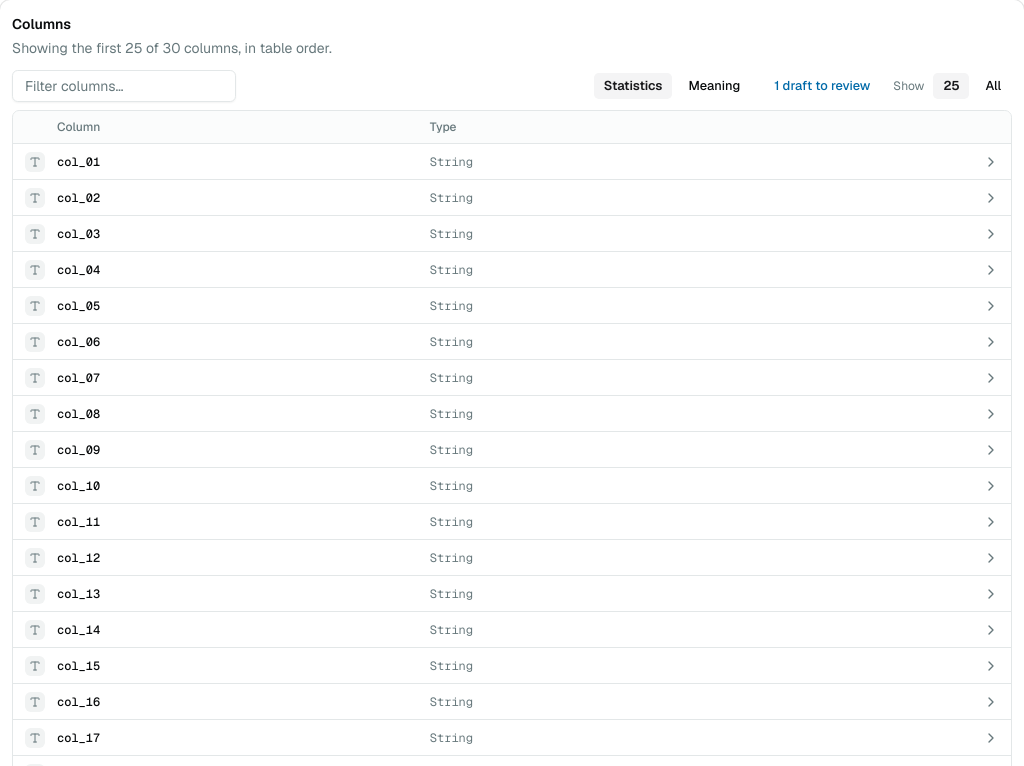
Test case: Drafts only › lists a draft beyond the first page and says it is the one draft shown
Click the button "Meaning": click(714, 86) [677, 72, 751, 100]
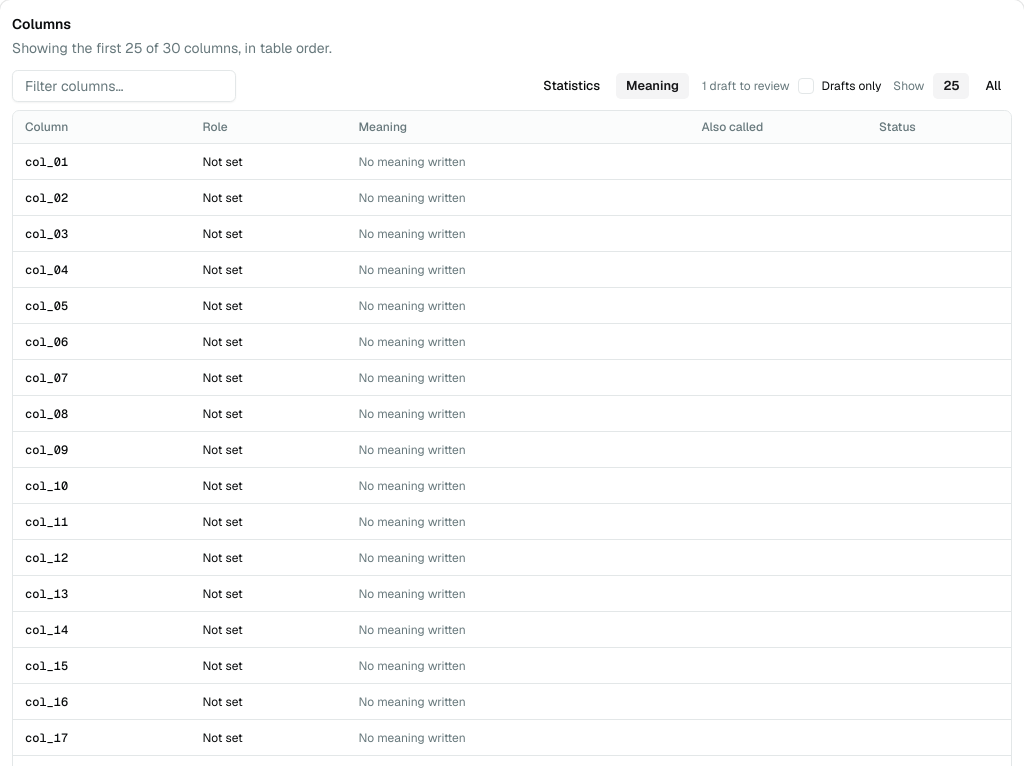
Click the checkbox named "Drafts only": click(806, 86) [798, 78, 814, 94]
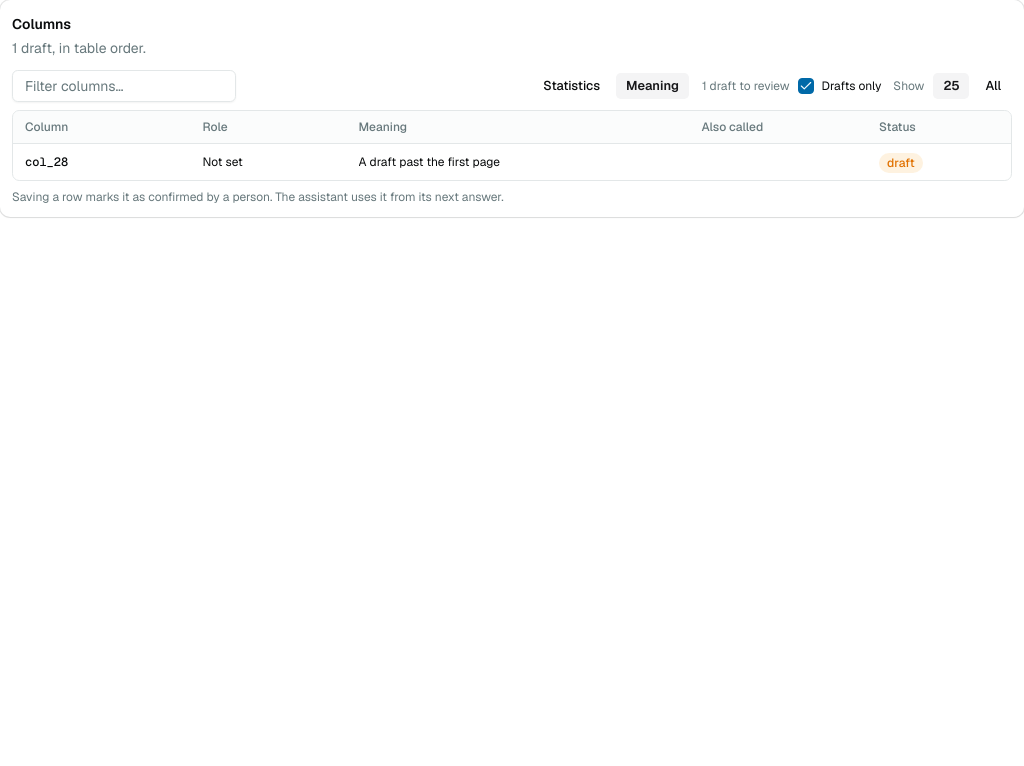
Check: the text "col_28" is shown, box [25, 154, 68, 170]
Check: the number of rows is 2, box [13, 111, 1011, 144]; [25, 152, 923, 172]
Check: the text "1 draft, in table order." is shown, box [12, 38, 146, 58]
